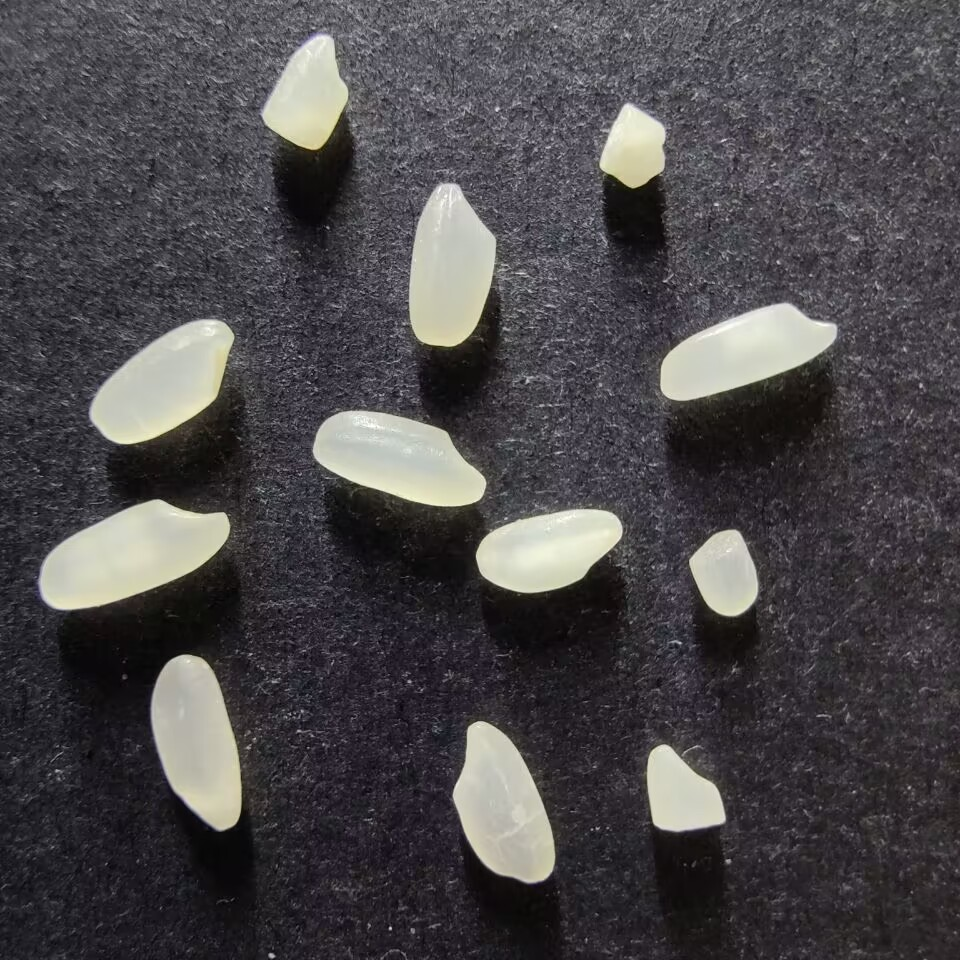broken: (260, 33, 348, 151), (645, 742, 727, 833), (686, 528, 759, 617), (598, 103, 668, 189)
rice: (37, 498, 231, 610), (89, 318, 233, 445), (659, 301, 840, 401), (450, 719, 555, 885), (311, 409, 486, 507), (149, 654, 242, 833), (407, 182, 496, 347), (475, 508, 623, 594)
